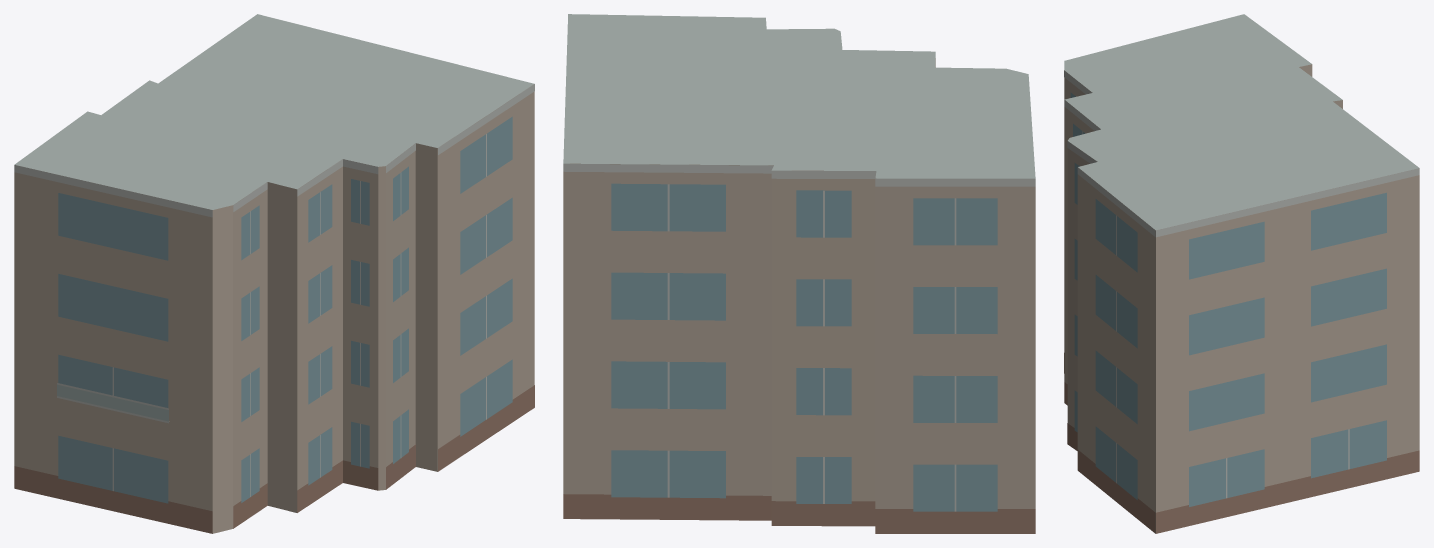
Rendered from survey-upis-32775783.glb.
The picture shows the model from 3 angles, left to right: view 1: azimuth 30°, elevation 25°; view 2: azimuth 150°, elevation 25°; view 3: azimuth 270°, elevation 25°; orthographic projection. The views are drawn at different scales.
Parts seen in each view (by area): view 1: survey-upis-32775783.tmp; view 2: survey-upis-32775783.tmp; view 3: survey-upis-32775783.tmp.
Boxes of the visible parts, x1=… form: survey-upis-32775783.tmp: x1=14, y1=14, x2=534, y2=533; survey-upis-32775783.tmp: x1=563, y1=14, x2=1035, y2=533; survey-upis-32775783.tmp: x1=1064, y1=14, x2=1419, y2=533.
Bounding box in the file's own units: 16.22 × 10.6 × 11.26.
